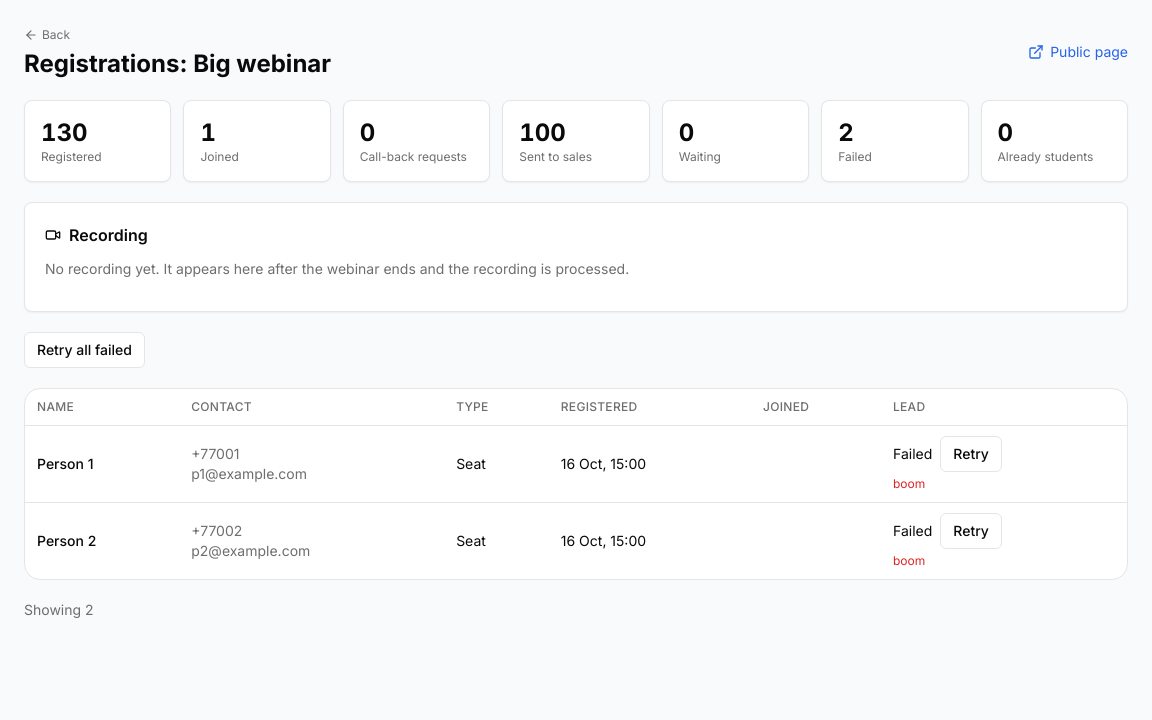
Test case: a webinar’s registrations: paging, retry and lead labels › retries all of this webinar’s failed leads, says how many, and reloads
Click the button "Retry all failed" at (84, 350), box top-left (24, 332), bottom-right (145, 368)
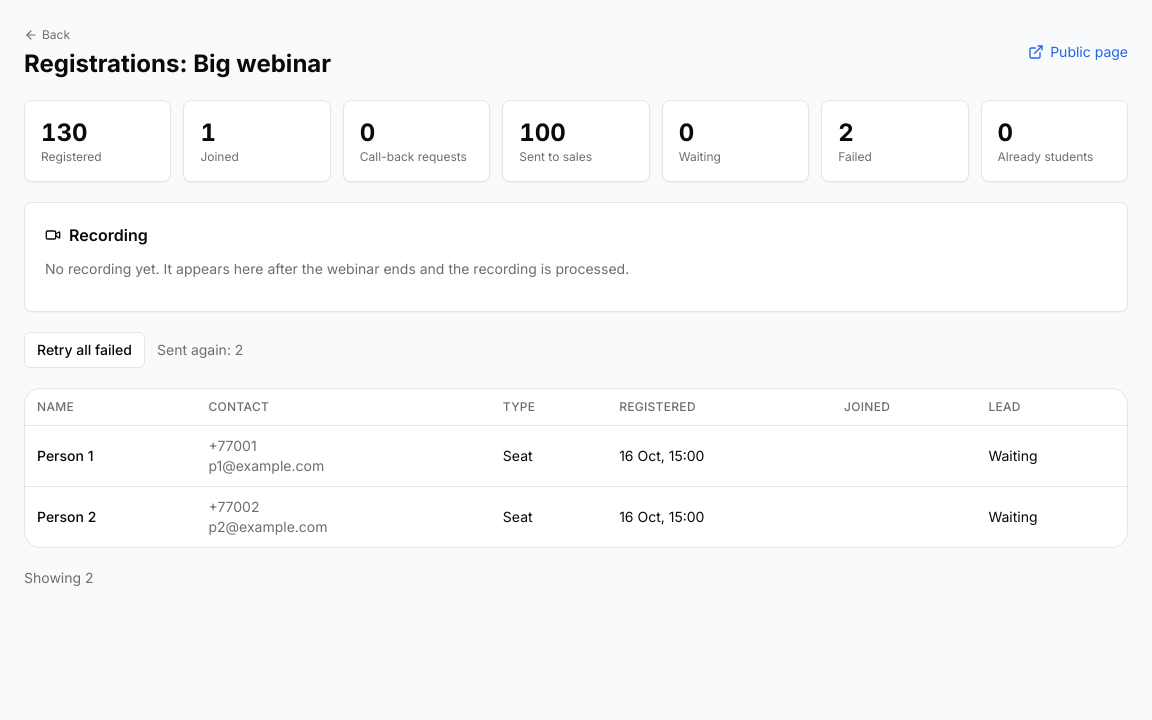
Expected: the message "Sent again: 2" is shown, top-left (157, 340), bottom-right (243, 360)
Expected: the cell "Waiting" in the row of "Person 1" is shown, top-left (988, 447), bottom-right (1038, 464)
